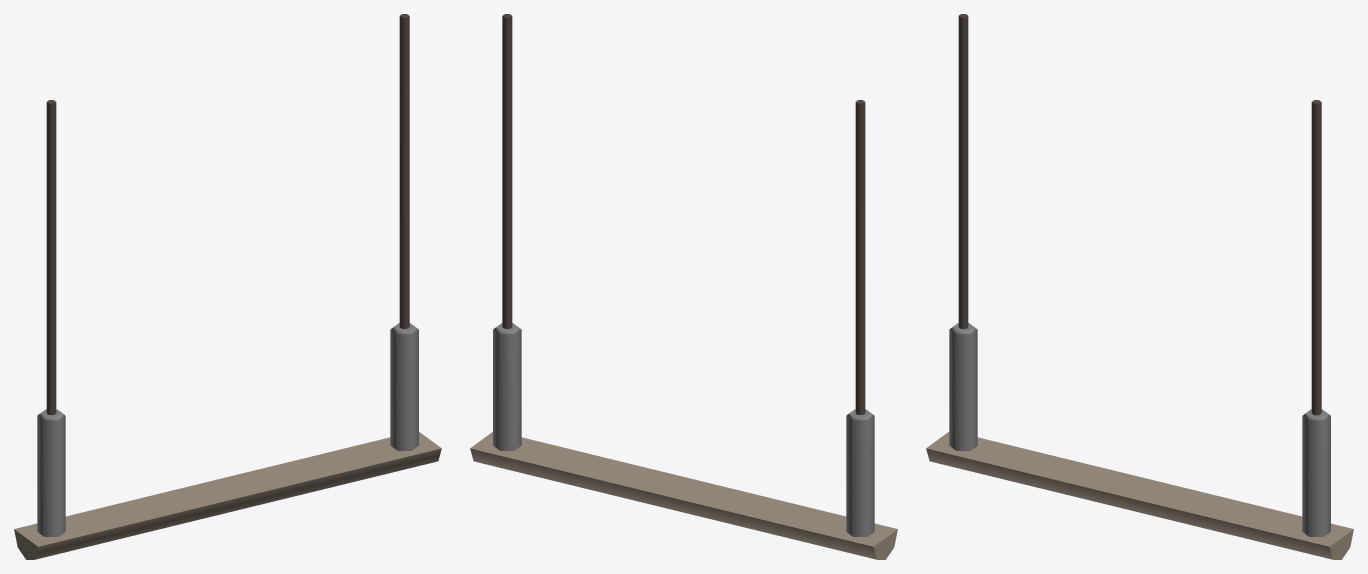
The model's file is bannerhang.glb.
3 renders of one model, left to right at view 1: azimuth 30°, elevation 25°; view 2: azimuth 150°, elevation 25°; view 3: azimuth 330°, elevation 25°, orthographic.
Parts seen in each view (by area): view 1: BannerHang; view 2: BannerHang; view 3: BannerHang.
Boxes of the visible parts, x1,y1,x2,y2 form: BannerHang: (14,14,441,559); BannerHang: (470,14,897,559); BannerHang: (926,14,1353,559).
Size of what is drawn, in the model's own units: 1.14 by 1.22 by 0.119.
Materials: 1 (1 with a texture image).
